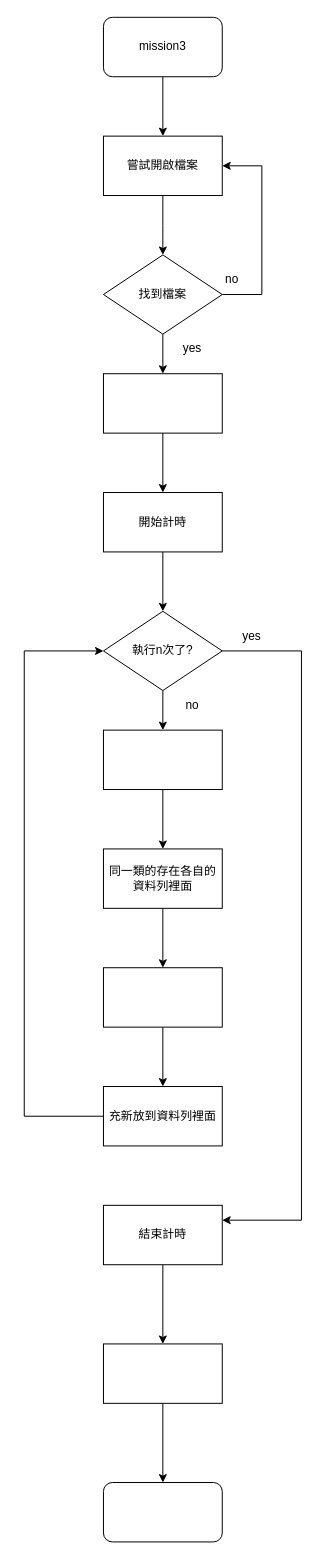
Image size: 327x1559. Some labels were removed from this diagram. The box of each missing label's shape, as (x1, y1, x2, y2) in pixels:
依資料列裡面的數字的第n位數分類: (102, 729, 222, 790)
再從0-9的資料列由小至大拿出: (102, 967, 222, 1027)
找出資料列裡面最大數的位數(n): (102, 373, 222, 433)
逐依將資料寫入檔案: (102, 1343, 222, 1403)
